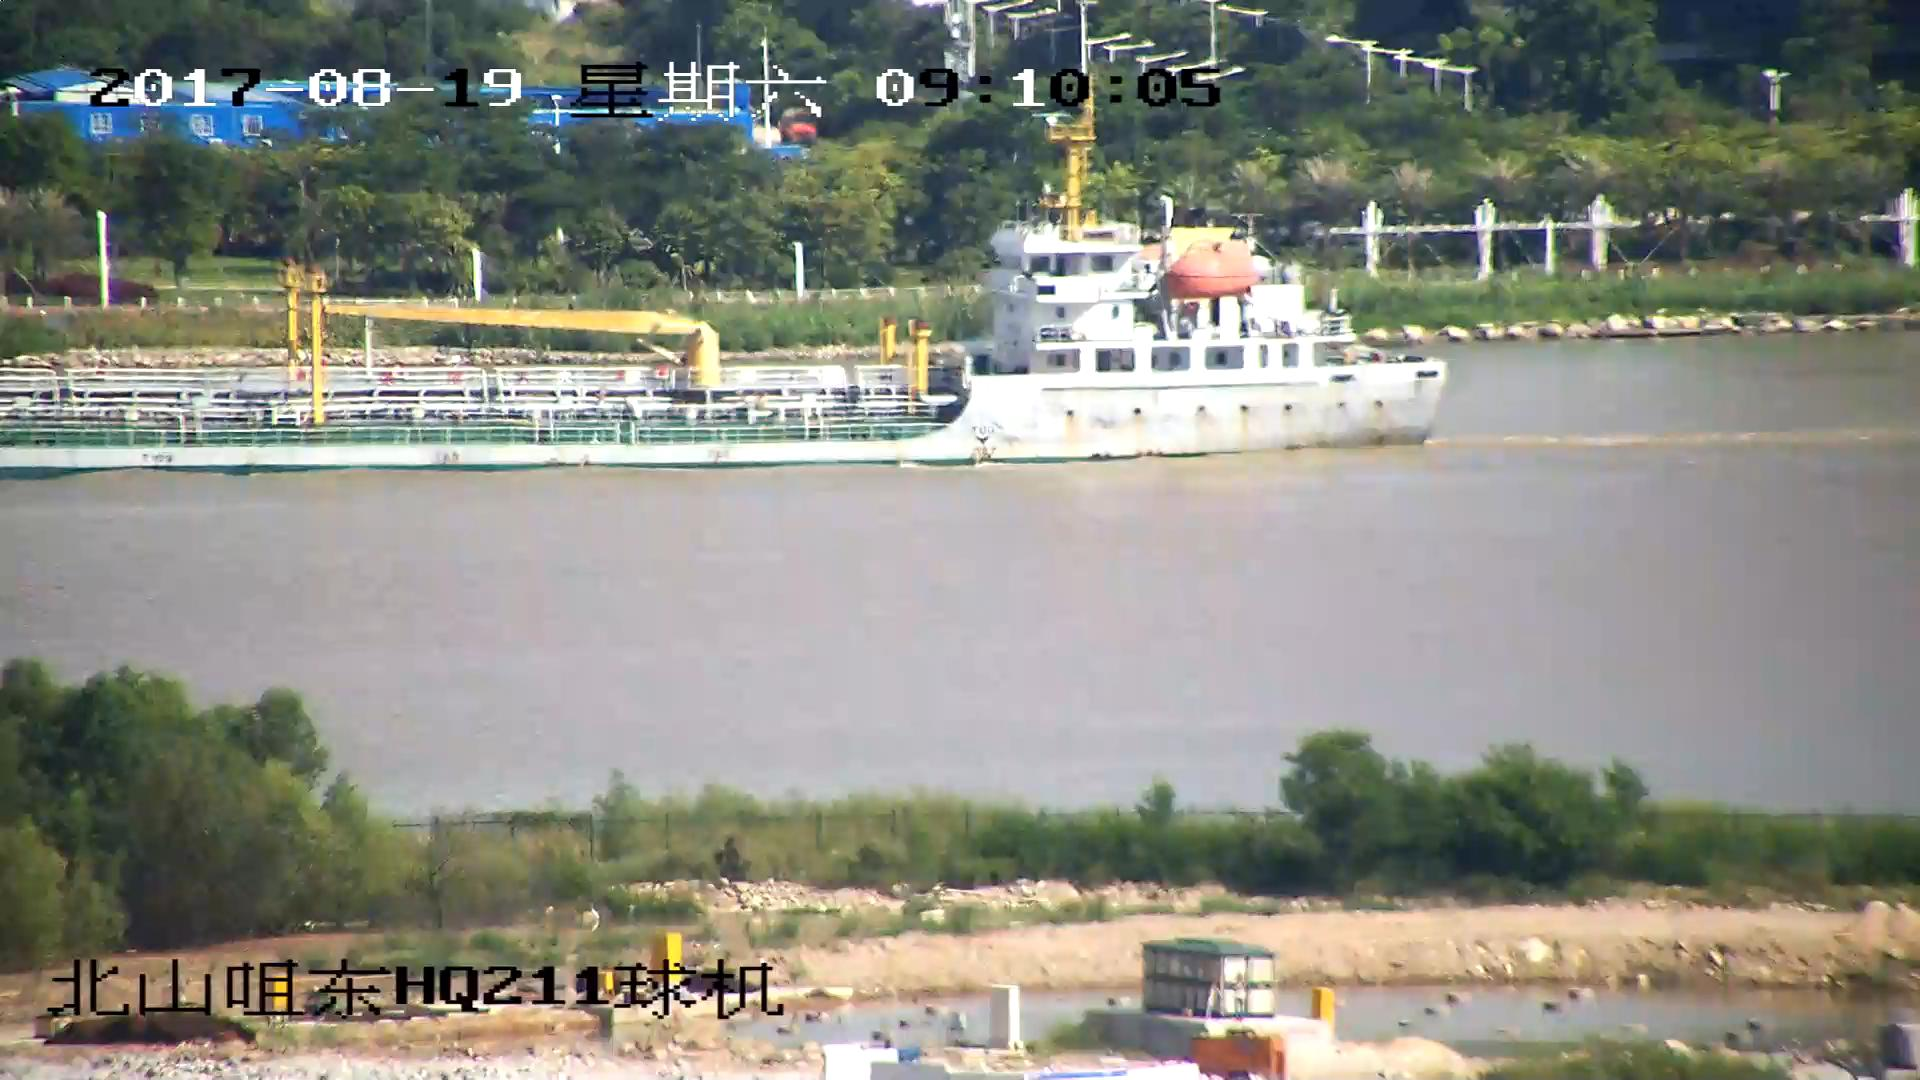general cargo ship: (1, 125, 1450, 476)
